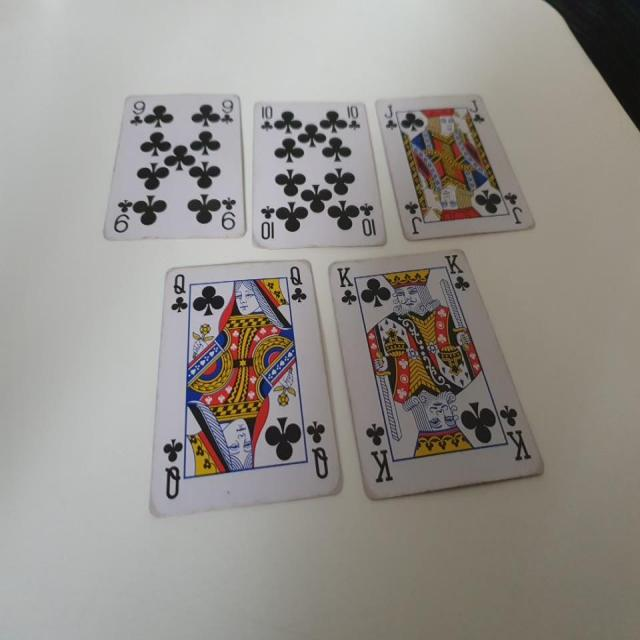10 Trefoils: (250, 98, 387, 245)
9 Trefoils: (101, 90, 248, 237)
J Trefoils: (372, 92, 536, 242)
K Trefoils: (327, 246, 547, 500)
Q Trefoils: (148, 258, 347, 514)
